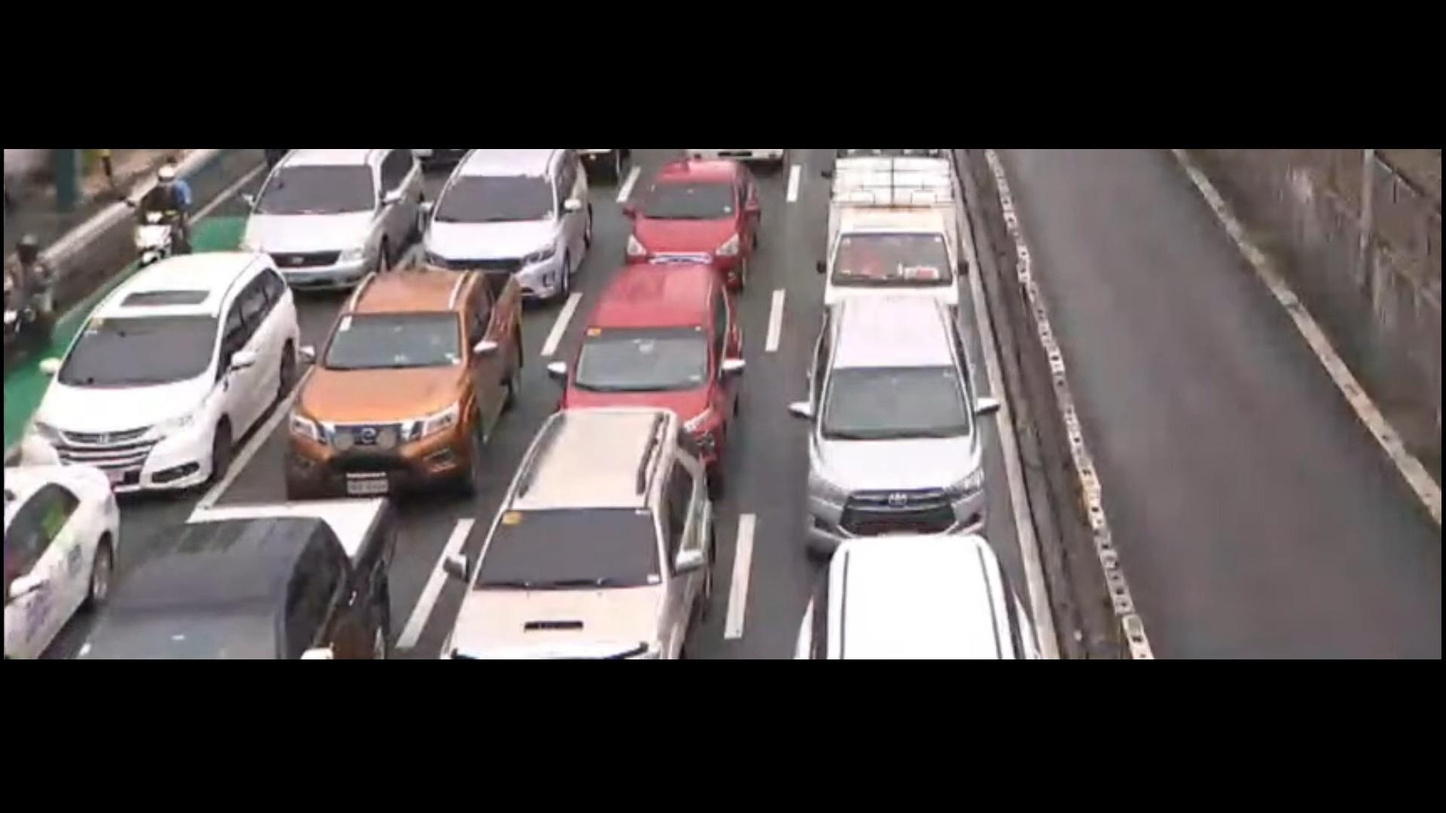Motorcycle: (122, 160, 192, 263)
Multicab: (813, 166, 968, 312)
Pickup: (81, 495, 395, 672)
SUV: (437, 410, 734, 670), (40, 262, 292, 480), (290, 269, 508, 499), (804, 294, 992, 550), (772, 534, 1054, 659), (241, 147, 435, 290), (427, 147, 597, 297)
Sedan: (563, 269, 731, 472), (0, 472, 132, 646), (631, 160, 757, 290)
